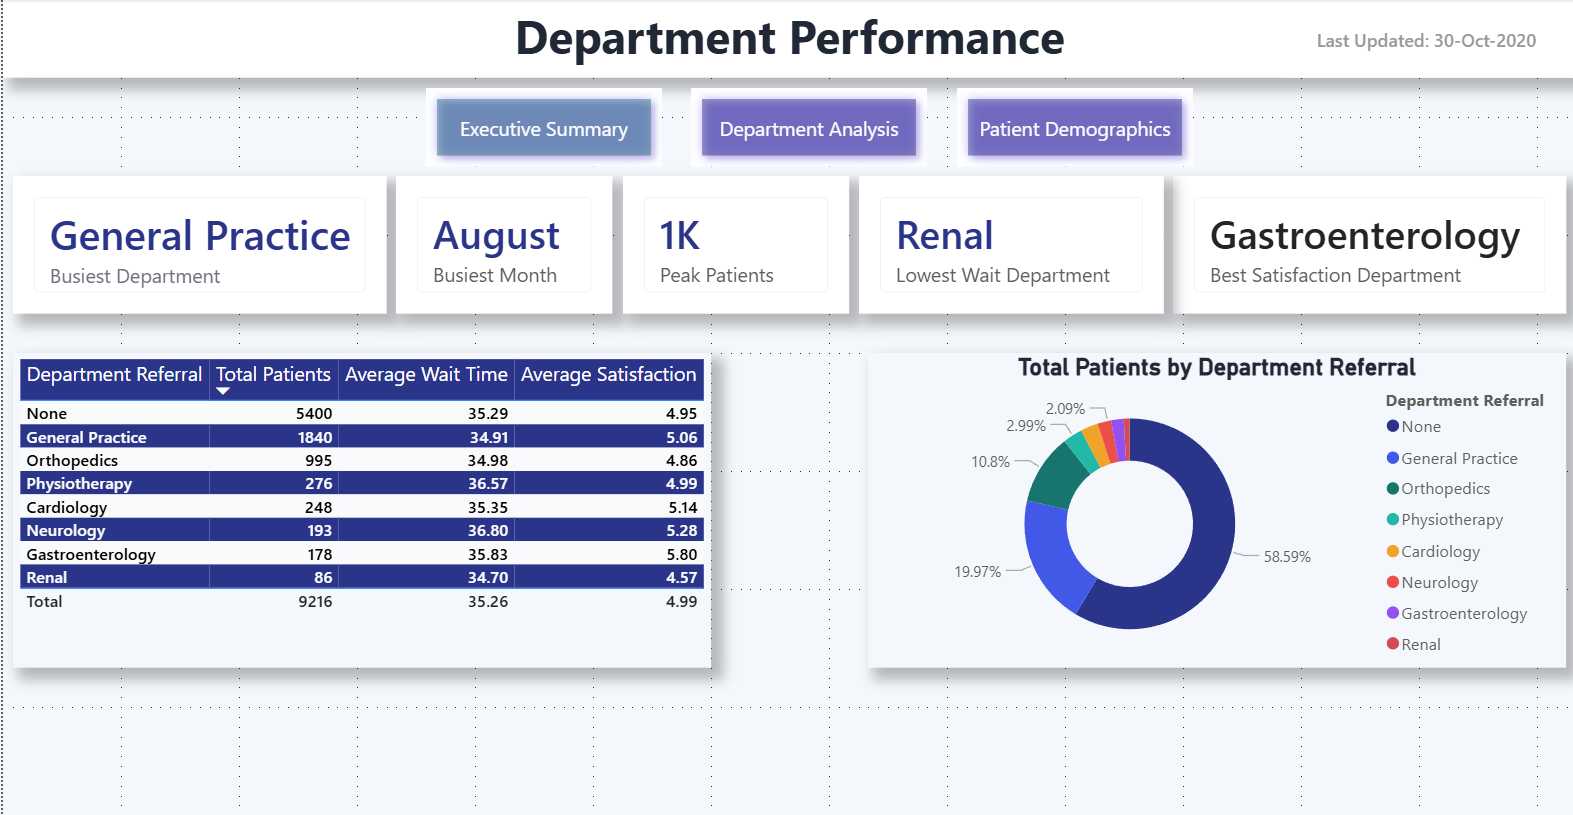

What the dashboard file says about the page in this screenshot:
{"tool":"powerbi","page":{"name":"Executive_Summary","canvas":[1280,720],"ordinal":1},"visuals":[{"type":"cardVisual","fields":{"Data":["Dim_Date.Busiest Department"]},"box":[8,144,304,112],"z":0},{"type":"cardVisual","fields":{"Data":["Dim_Date.Busiest Month"]},"box":[320,144,176,112],"z":1000},{"type":"textbox","box":[0,0,1280,64],"z":2000},{"type":"cardVisual","fields":{"Data":["Dim_Date.Peak Patients"]},"box":[504,144,184,112],"z":3000},{"type":"cardVisual","fields":{"Data":["Dim_Date.Best Satisfaction Department"]},"box":[952,144,320,112],"z":4000},{"type":"cardVisual","fields":{"Data":["Dim_Date.Lowest Wait Department"]},"box":[696,144,248,112],"z":5000},{"type":"tableEx","fields":{"Values":["Dim_Department.Department Referral","Fact_Patient.Total Patients","Dim_Date.Average Wait Time","Dim_Date.Average Satisfaction"]},"box":[8,288,568,256],"z":6000},{"type":"donutChart","fields":{"Category":["Dim_Department.Department Referral"],"Y":["Fact_Patient.Total Patients"]},"box":[704,288,568,256],"z":7000},{"type":"cardVisual","fields":{"Data":["Dim_Date.Last Updated"]},"box":[1040,0,240,64],"z":8000},{"type":"actionButton","box":[344,72,192,64],"z":9000},{"type":"actionButton","box":[776,72,192,64],"z":10000},{"type":"actionButton","box":[560,72,192,64],"z":11000}]}

Visuals, with their boxes on the page's 1280x720 design canvas (x1, y1, x2, y2). These are canvas units, not pixel positions in the 1573x815 screenshot, which may show the page scaled, cropped or inside an application window:
cardVisual - Dim_Date.Busiest Department: 8/144/312/256
cardVisual - Dim_Date.Busiest Month: 320/144/496/256
textbox: 0/0/1280/64
cardVisual - Dim_Date.Peak Patients: 504/144/688/256
cardVisual - Dim_Date.Best Satisfaction Department: 952/144/1272/256
cardVisual - Dim_Date.Lowest Wait Department: 696/144/944/256
tableEx - Dim_Department.Department Referral x Fact_Patient.Total Patients: 8/288/576/544
donutChart - Dim_Department.Department Referral x Fact_Patient.Total Patients: 704/288/1272/544
cardVisual - Dim_Date.Last Updated: 1040/0/1280/64
actionButton: 344/72/536/136
actionButton: 776/72/968/136
actionButton: 560/72/752/136
